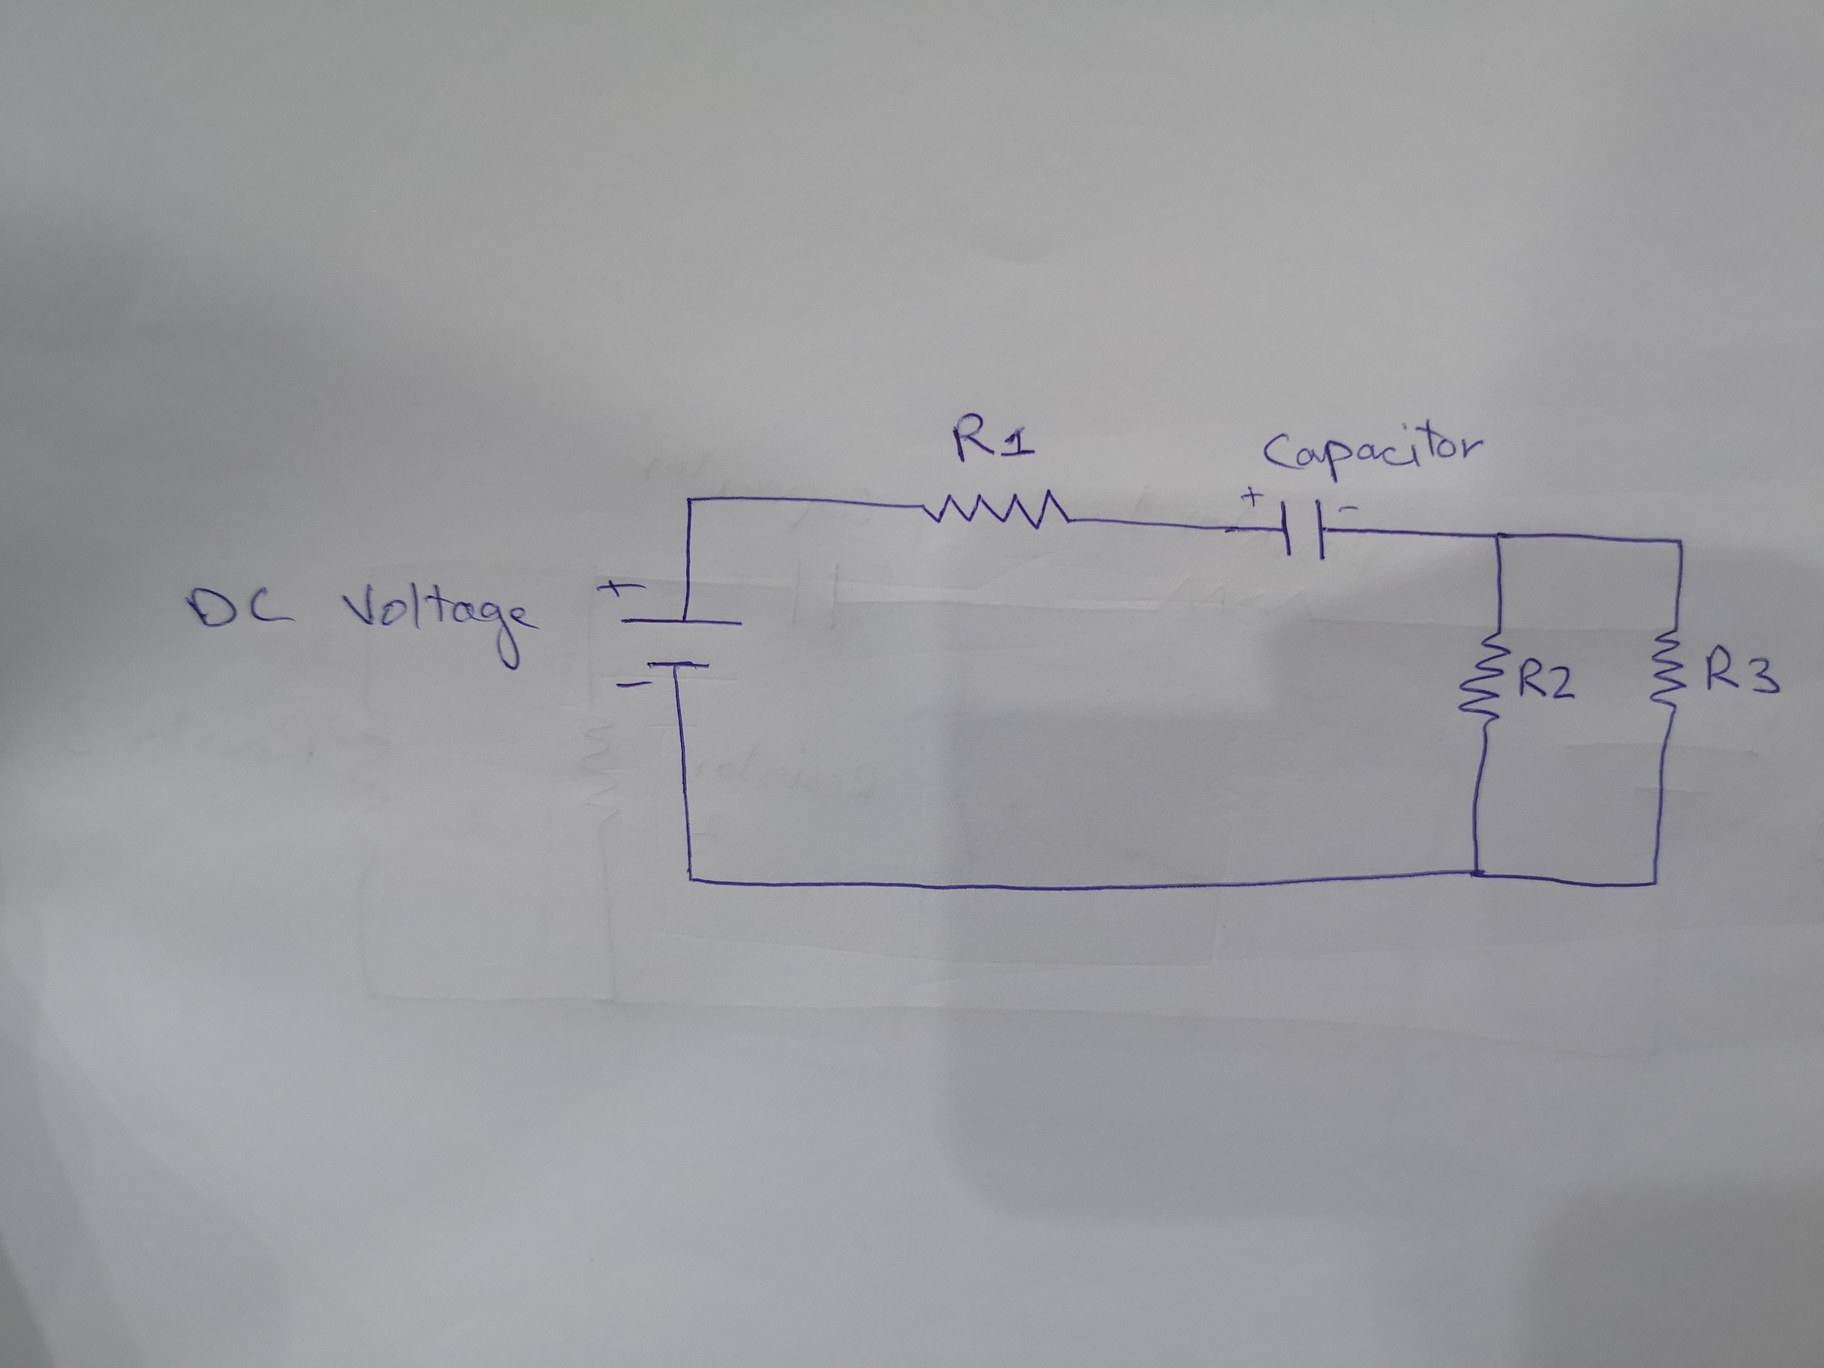capacitor.polarized: (1234, 481, 1364, 565)
junction: (1453, 854, 1498, 892), (675, 858, 709, 892), (1484, 524, 1509, 552), (1642, 868, 1667, 894), (676, 487, 704, 512), (1666, 530, 1692, 555)
resistor: (916, 486, 1080, 532), (1453, 624, 1509, 729), (1644, 621, 1688, 711)
text: (178, 570, 546, 677), (1257, 424, 1476, 476), (1698, 641, 1784, 697), (948, 411, 1037, 464), (1517, 657, 1578, 704)
voltage.dc: (615, 608, 750, 675)
